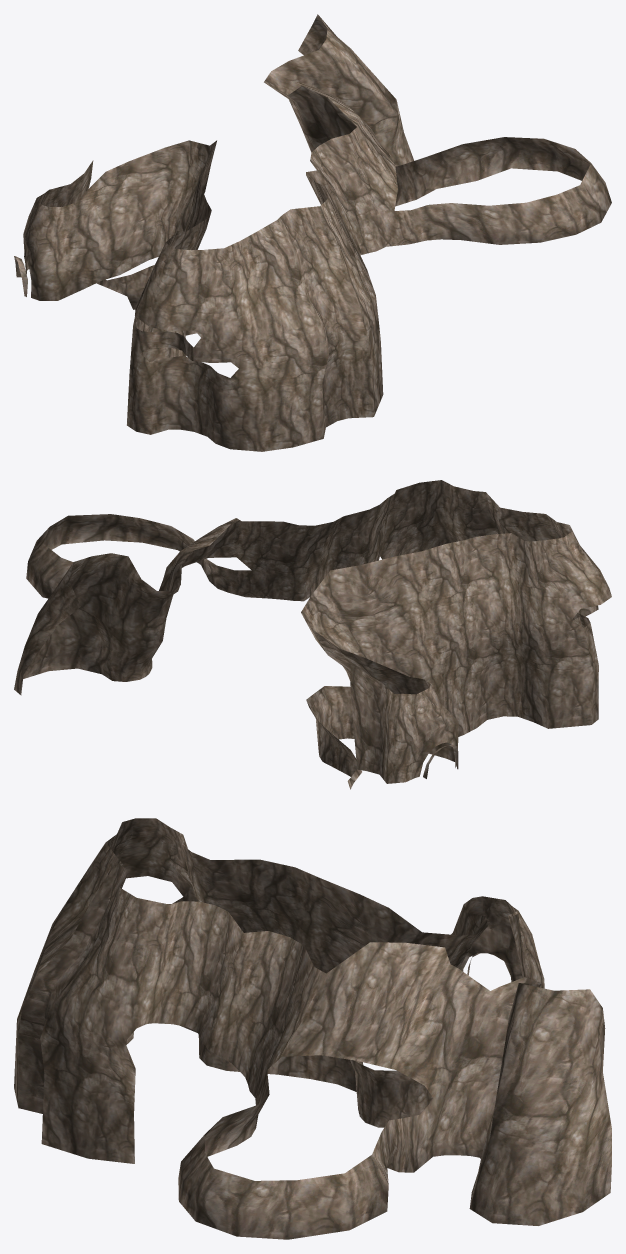
Rendered from EKH_THRONE_PS_TH_LINE17.fbx.
The picture shows the model from 3 angles, top to bottom: view 1: azimuth 30°, elevation 25°; view 2: azimuth 150°, elevation 25°; view 3: azimuth 270°, elevation 25°; orthographic projection. The views are drawn at different scales.
Parts seen in each view (by area): view 1: EKH_THRONE_PS_TH_LINE17; view 2: EKH_THRONE_PS_TH_LINE17; view 3: EKH_THRONE_PS_TH_LINE17.
Boxes of the visible parts, x1,y1,x2,y2 form: EKH_THRONE_PS_TH_LINE17: [14, 14, 611, 451]; EKH_THRONE_PS_TH_LINE17: [14, 480, 611, 789]; EKH_THRONE_PS_TH_LINE17: [14, 818, 611, 1239].
Size of the model in its own units: 360511 by 135336 by 288028.
Materials: 1 (1 with a texture image).
